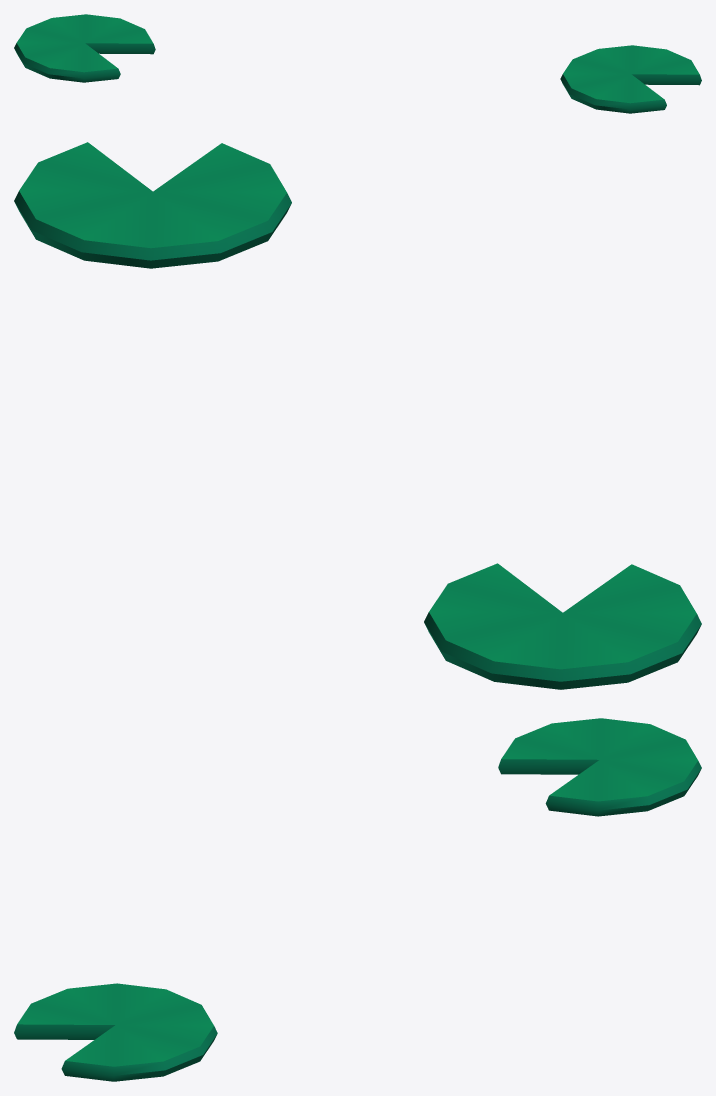
Rendered from water_plants_4.glb.
The picture shows the model from 3 angles, top to bottom: view 1: azimuth 30°, elevation 25°; view 2: azimuth 150°, elevation 25°; view 3: azimuth 270°, elevation 25°; orthographic projection. The views are drawn at different scales.
Visible parts, largest first — view 1: waterlily_B.001, waterlily_B; view 2: waterlily_B, waterlily_B.001; view 3: waterlily_B.001, waterlily_B.
Part boxes in pixels (bbox=[...]): waterlily_B.001: bbox=[14, 14, 155, 82]; waterlily_B: bbox=[560, 45, 701, 113]; waterlily_B: bbox=[14, 142, 291, 268]; waterlily_B.001: bbox=[424, 563, 701, 689]; waterlily_B.001: bbox=[498, 718, 701, 816]; waterlily_B: bbox=[14, 983, 217, 1081].
Bounding box in the file's own units: 0.8601 × 0.0171 × 0.711.
Materials: 2 (2 with a texture image).
